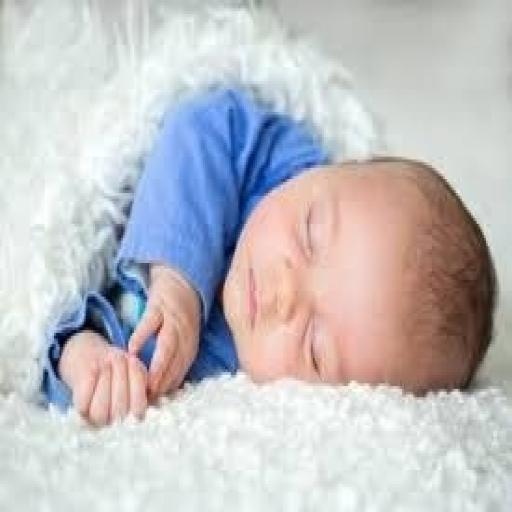sleeping: (37, 81, 499, 431)
